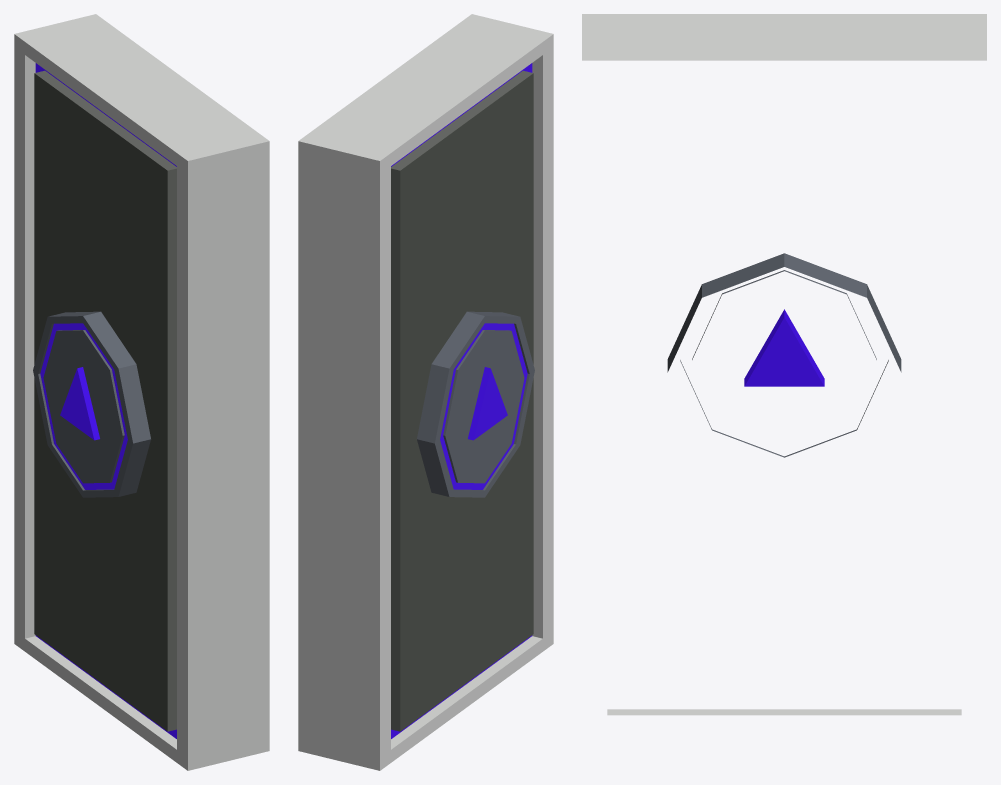
File: ElevatorButton.glb
The picture shows the model from 3 angles, left to right: view 1: azimuth 30°, elevation 25°; view 2: azimuth 150°, elevation 25°; view 3: azimuth 270°, elevation 25°; orthographic projection. The views are drawn at different scales.
Visible parts, largest first — view 1: BaseButton, Button; view 2: BaseButton, Button; view 3: BaseButton, Button.
Part boxes in pixels (bbox=[...]): BaseButton: bbox=[14, 14, 269, 770]; Button: bbox=[33, 311, 150, 497]; BaseButton: bbox=[298, 14, 553, 770]; Button: bbox=[417, 311, 534, 497]; BaseButton: bbox=[582, 14, 986, 715]; Button: bbox=[667, 253, 901, 457].
Size of what is drawn, in the model's own units: 0.1202 by 0.6626 by 0.3421.
Materials: 1 (1 with a texture image).
